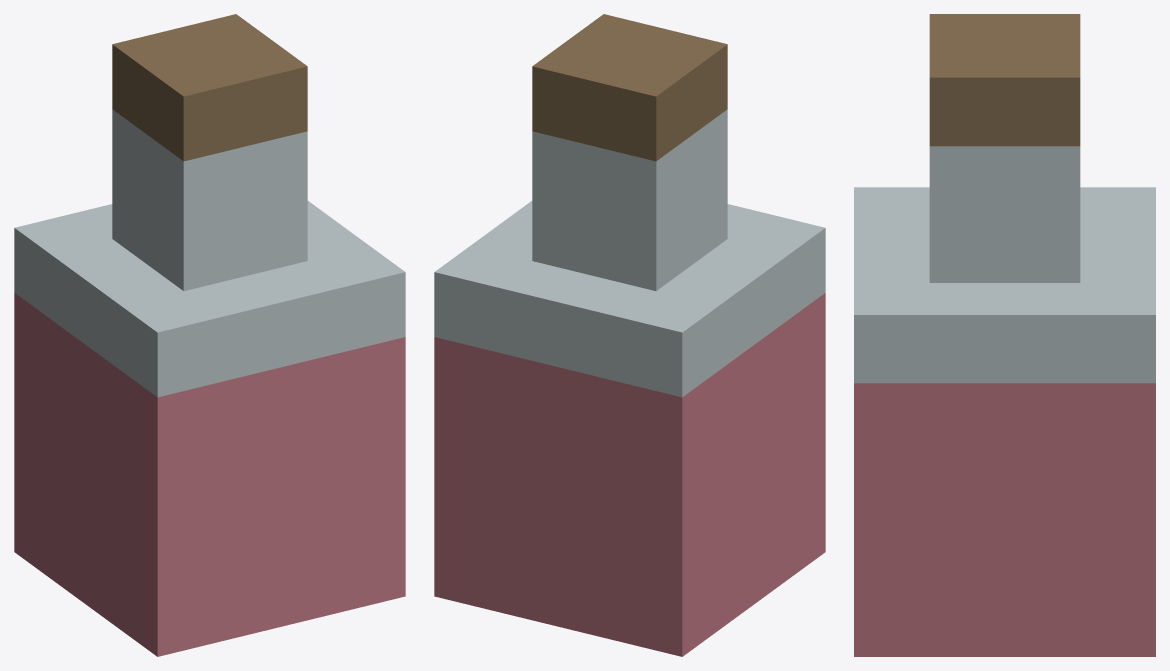
The model's file is pocion_alquimica_vital_01.glb.
3 renders of one model, left to right at view 1: azimuth 30°, elevation 25°; view 2: azimuth 150°, elevation 25°; view 3: azimuth 270°, elevation 25°, orthographic. The views are drawn at different scales.
Parts seen in each view (by area): view 1: pocion_alquimica_vital; view 2: pocion_alquimica_vital; view 3: pocion_alquimica_vital.
Part boxes in pixels (x1=…): pocion_alquimica_vital: x1=14, y1=14, x2=405, y2=656; pocion_alquimica_vital: x1=434, y1=14, x2=825, y2=656; pocion_alquimica_vital: x1=854, y1=14, x2=1155, y2=656.
Bounding box in the file's own units: 0.3333 × 0.6667 × 0.3333.
